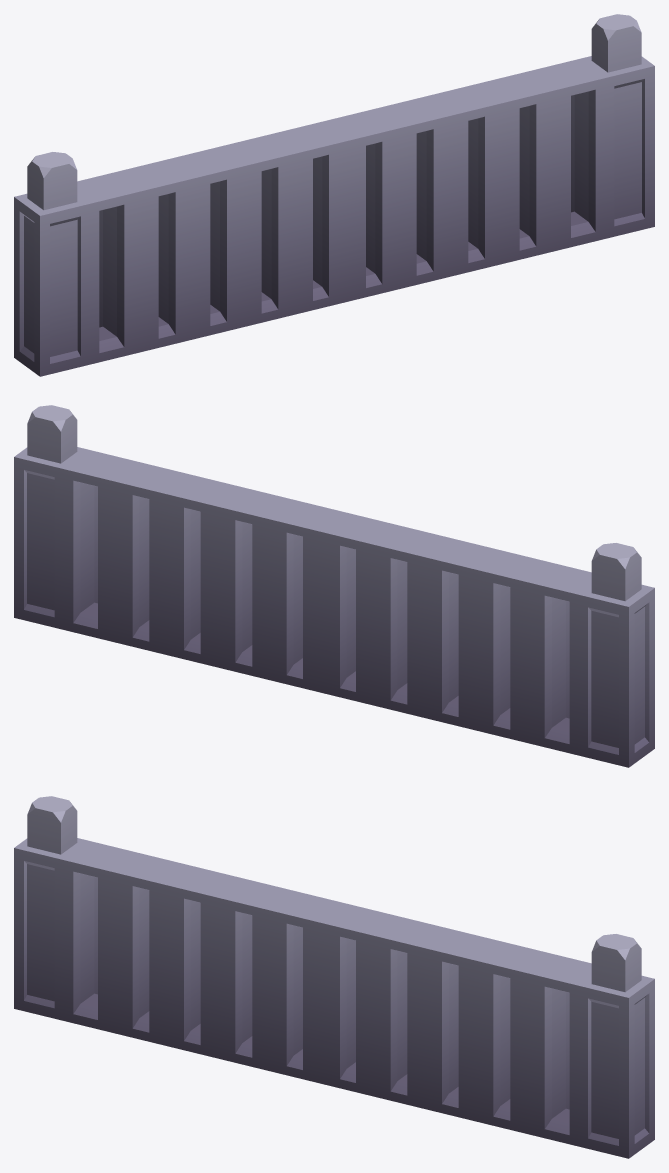
Rendered from Balcony.fbx.
The picture shows the model from 3 angles, top to bottom: view 1: azimuth 30°, elevation 25°; view 2: azimuth 150°, elevation 25°; view 3: azimuth 330°, elevation 25°; orthographic projection.
Visible parts, largest first — view 1: Balcony; view 2: Balcony; view 3: Balcony.
Boxes of the visible parts, <box> form: Balcony: <box>14,14,654,376</box>; Balcony: <box>14,405,654,767</box>; Balcony: <box>14,796,654,1158</box>.
Size of the model in its own units: 300 by 93.8 by 22.08.
